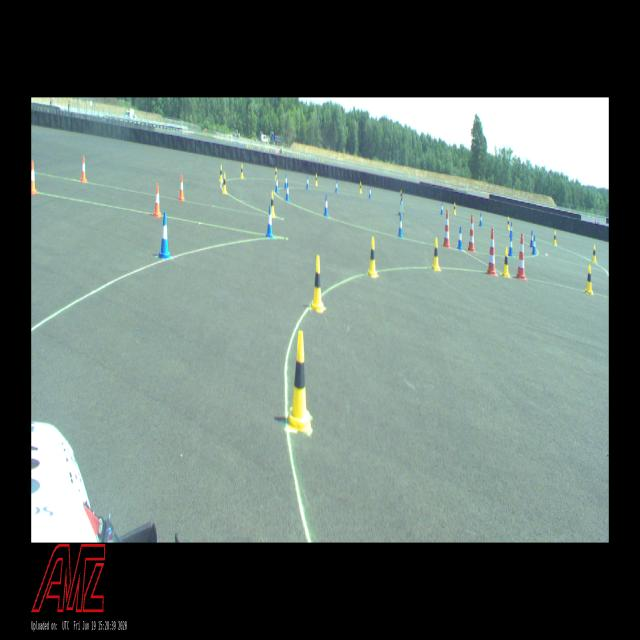blue_cone: (157, 212, 172, 260), (266, 205, 273, 237), (508, 234, 513, 257), (323, 194, 328, 216), (398, 214, 402, 237), (285, 184, 290, 202), (458, 227, 462, 249), (532, 236, 536, 255), (275, 177, 279, 193), (529, 231, 533, 246), (368, 186, 372, 198), (306, 176, 309, 190), (284, 174, 287, 188), (441, 202, 444, 215), (335, 180, 338, 192), (510, 222, 512, 237), (480, 214, 482, 226)
large_orange_cone: (485, 228, 498, 276), (515, 233, 527, 280), (468, 215, 476, 252), (443, 210, 450, 248)
orange_cone: (152, 184, 162, 216), (31, 161, 37, 194), (80, 156, 87, 181), (178, 176, 185, 200)
yellow_cone: (287, 329, 311, 428), (310, 255, 326, 314), (368, 237, 378, 277), (432, 238, 441, 271), (584, 265, 593, 294), (502, 248, 510, 277), (222, 172, 227, 195), (271, 191, 275, 216), (591, 245, 596, 263), (218, 165, 222, 181), (552, 231, 556, 246), (240, 164, 244, 178), (453, 202, 456, 215), (315, 174, 318, 186), (359, 182, 362, 192), (507, 216, 509, 230), (275, 168, 277, 180)
